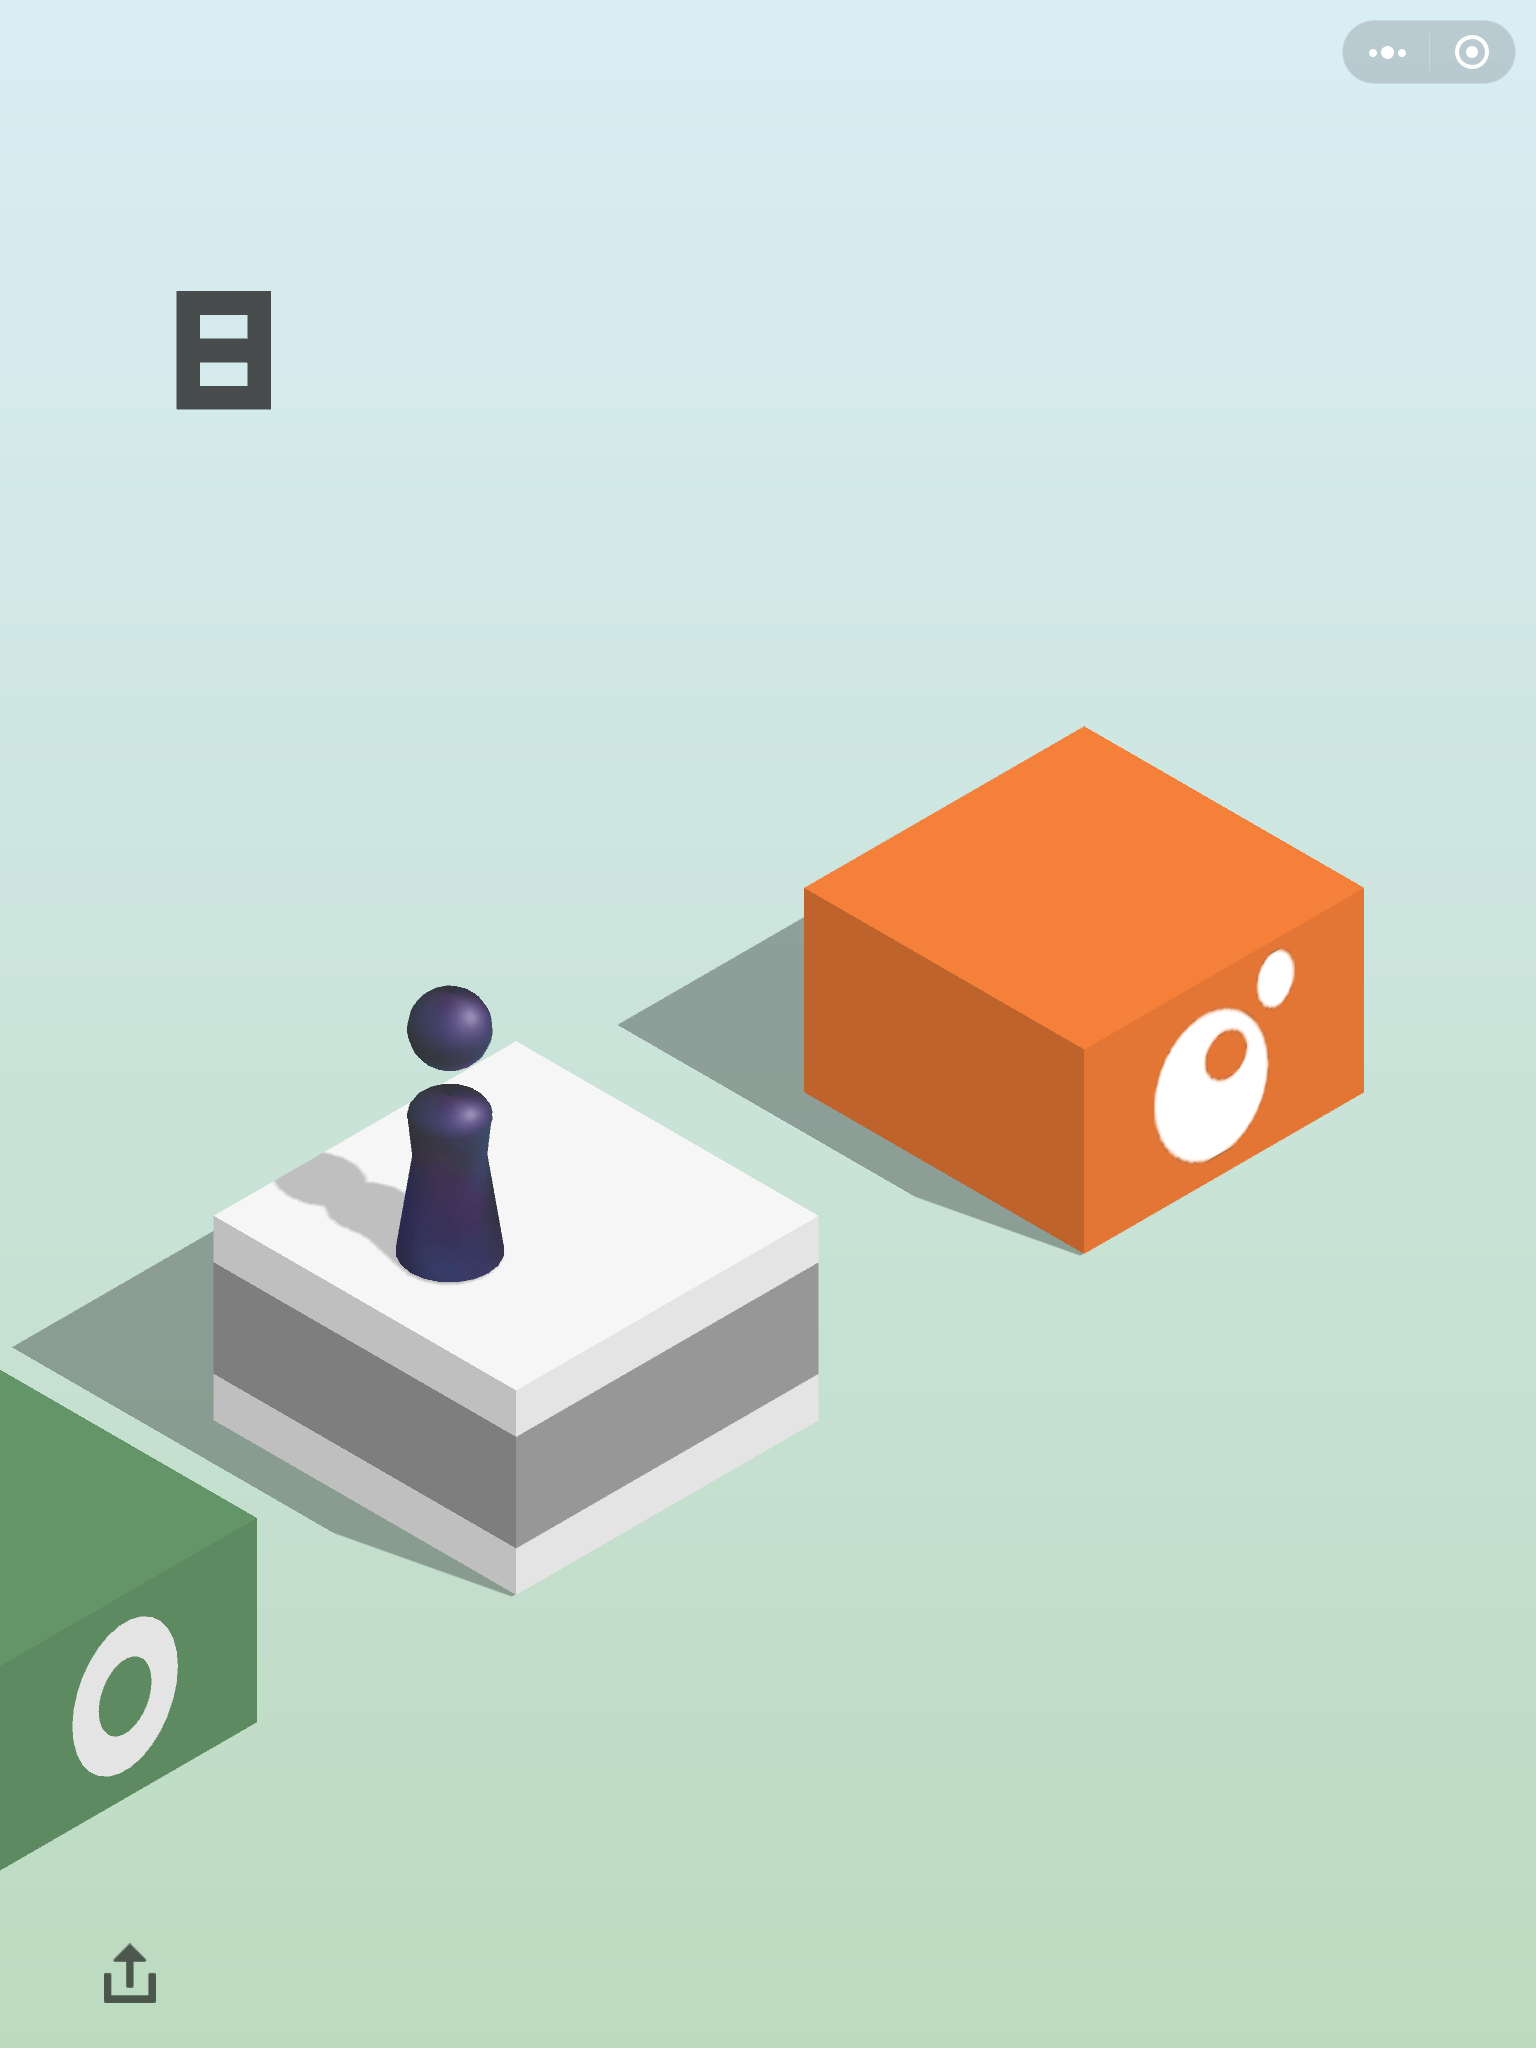f: (203, 1034, 826, 1608), (799, 722, 1371, 1259), (2, 1359, 265, 1867)
r: (387, 980, 515, 1293)
